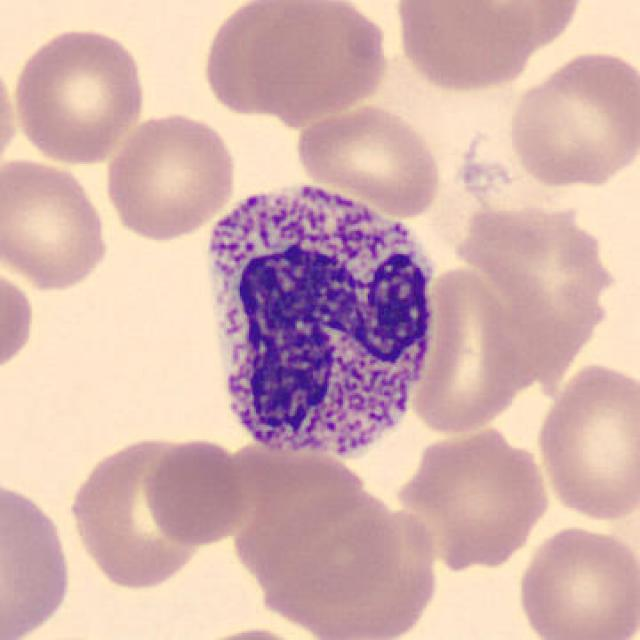Neutrophil: (190, 170, 446, 474)
RBC: (452, 194, 607, 382), (217, 450, 387, 600), (64, 432, 215, 594), (398, 423, 558, 570), (281, 500, 448, 640), (407, 261, 533, 434), (9, 23, 149, 167), (503, 46, 638, 192), (238, 0, 391, 125), (100, 108, 240, 244), (292, 100, 444, 218), (532, 358, 638, 525), (0, 155, 114, 293), (512, 522, 638, 640), (389, 0, 540, 93), (197, 0, 313, 120), (0, 472, 76, 640), (138, 436, 250, 548), (430, 0, 587, 55), (0, 263, 37, 381), (0, 49, 21, 176), (181, 624, 320, 640)
